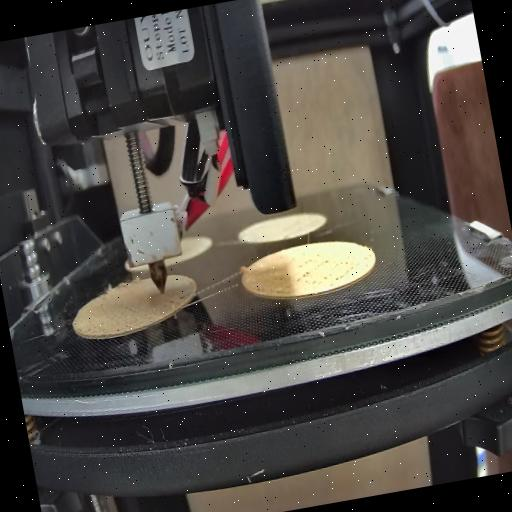under_extrusion: (292, 248, 362, 292), (74, 300, 140, 342), (250, 268, 294, 306), (173, 288, 194, 305)
